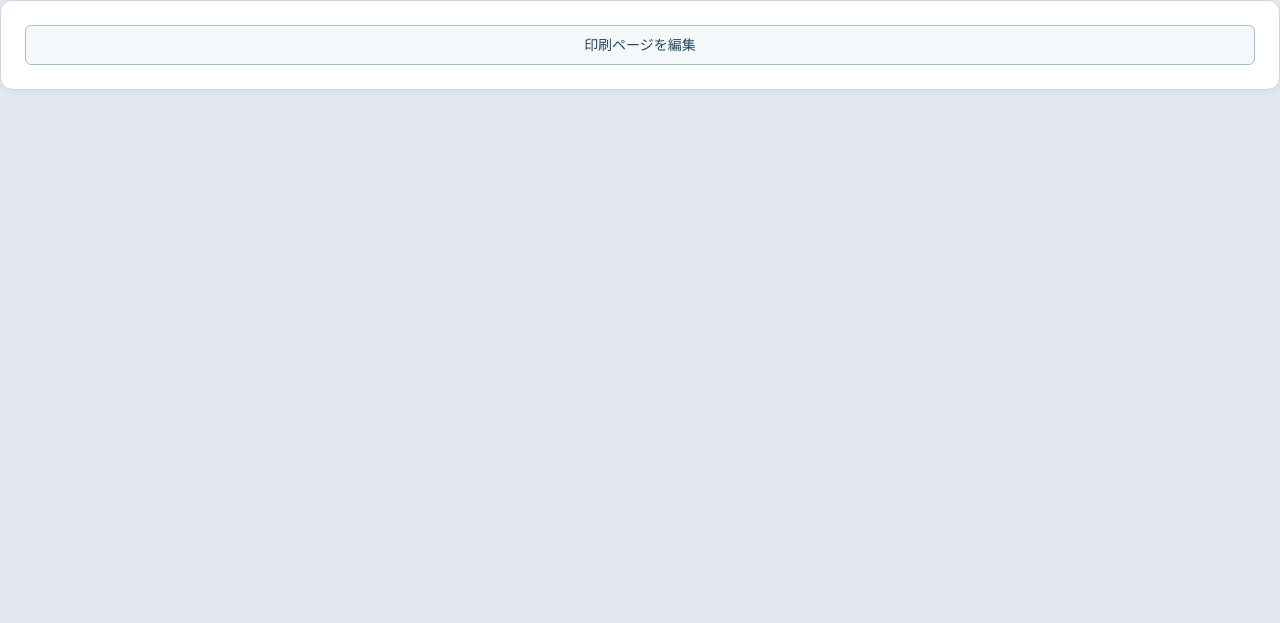
Test: 印刷ページ編集 › sends explicit heading bindings and keeps them after a save failure
Later steps or results of the test are not shown.
Click the button "印刷ページを編集".
click(640, 45)  # box left=25, top=25, right=1255, bottom=65
(page scrolled)
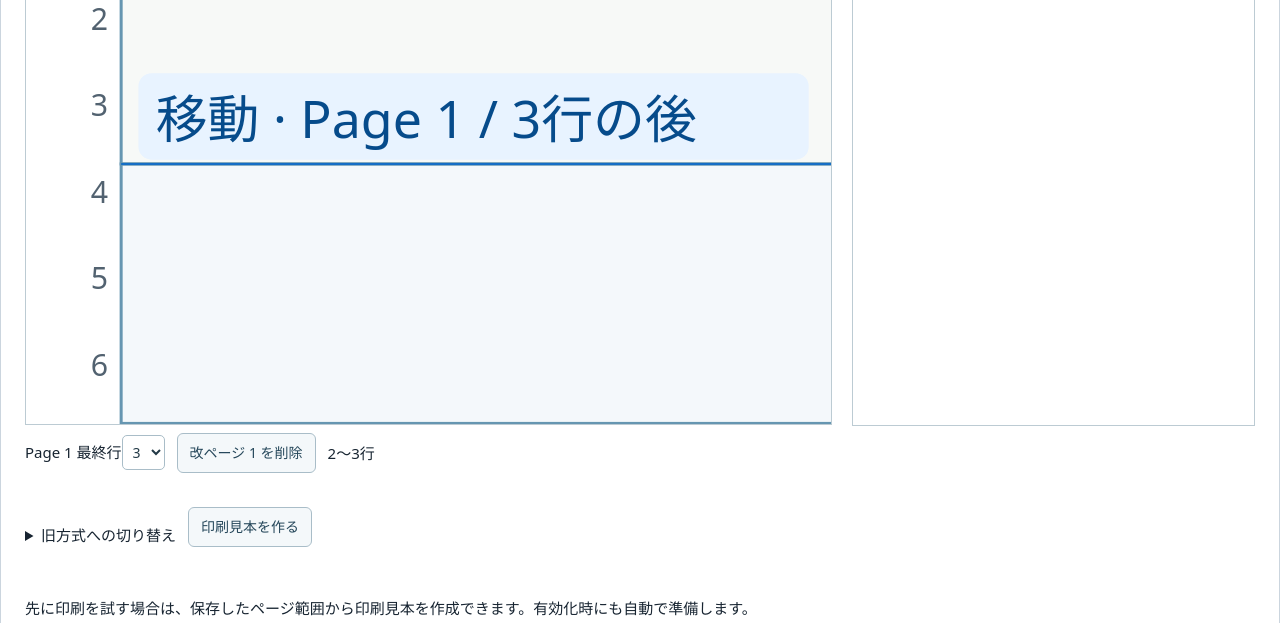
Select "2" in the dropdown labelled "Page 1 最終行" at (143, 453), box left=122, top=435, right=165, bottom=470
(page scrolled)
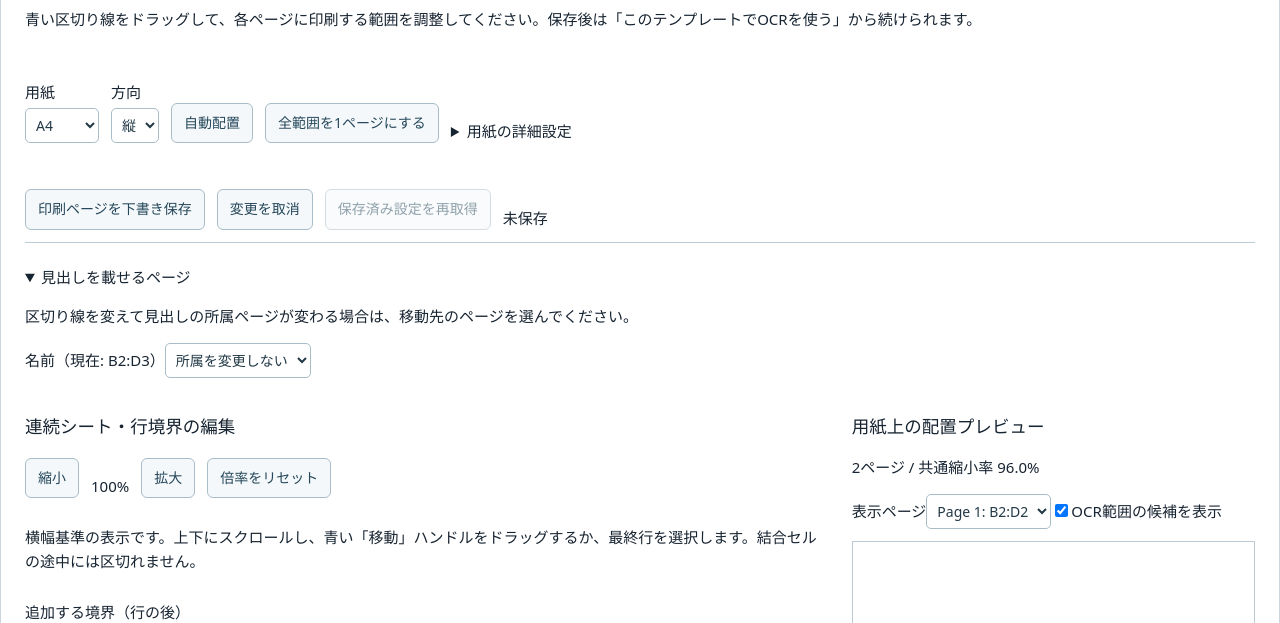
Result: the dropdown named "仮想見出し 名前 の移動先範囲" is enabled
Select "Page 1: B2:D2" in the dropdown named "仮想見出し 名前 の移動先範囲" at (238, 360), box left=165, top=343, right=311, bottom=378
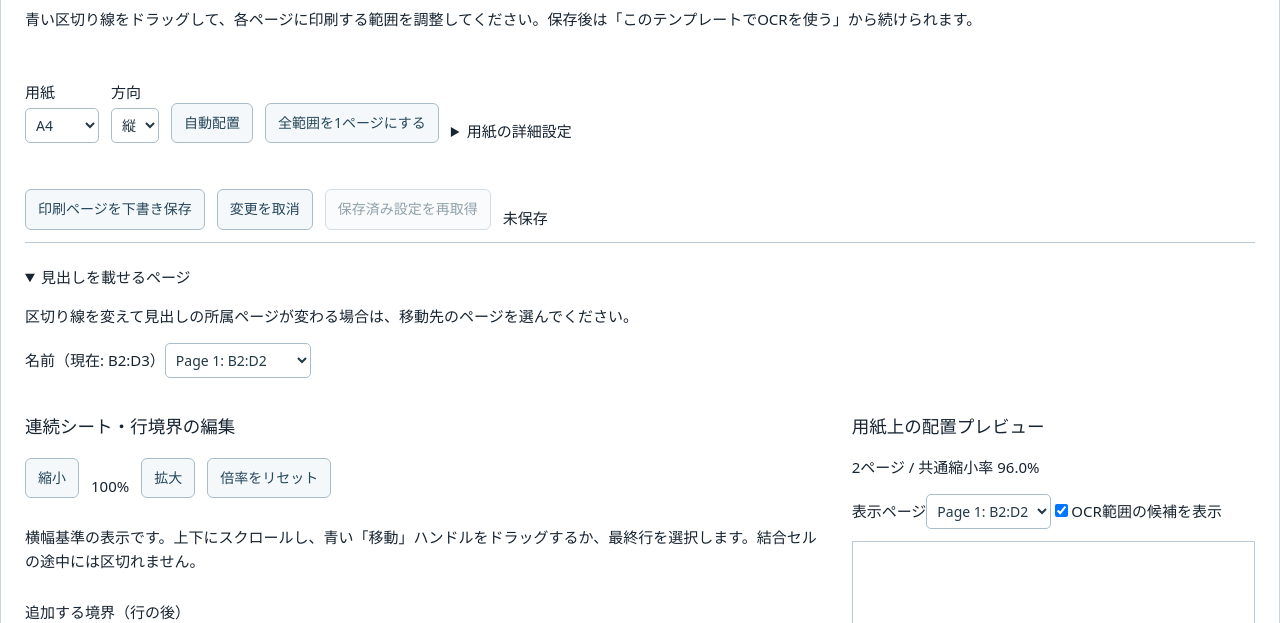
Result: the button "印刷ページを下書き保存" is enabled
Click the button "印刷ページを下書き保存".
click(115, 210)  # box left=25, top=189, right=205, bottom=230
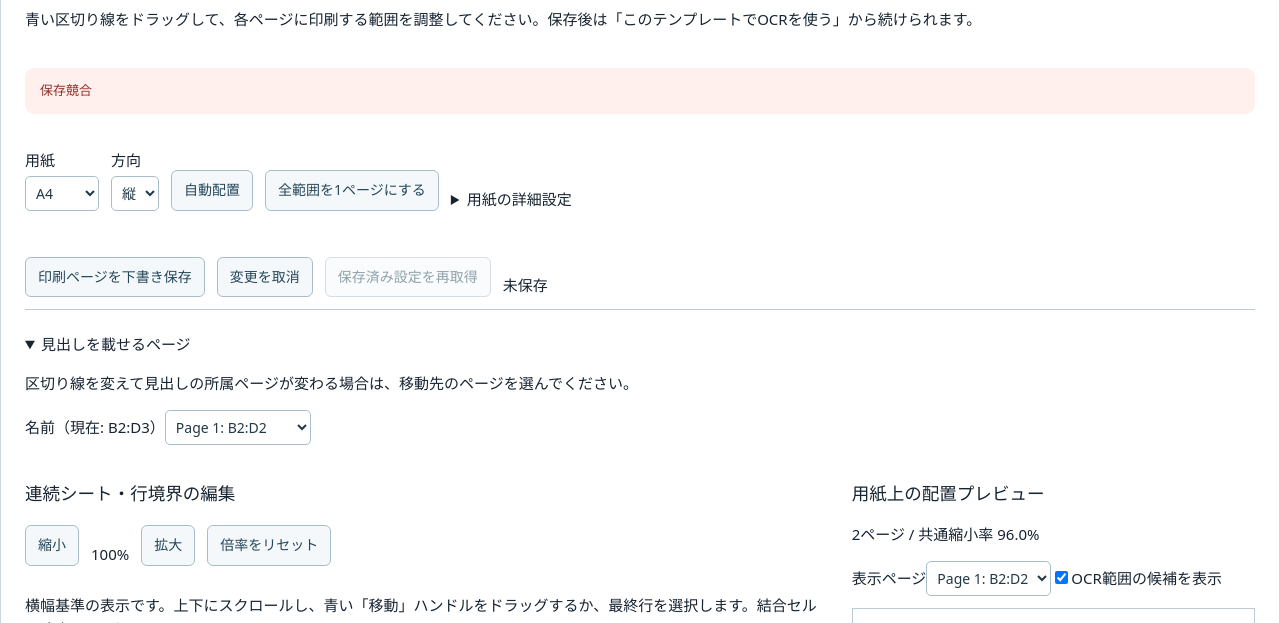
Result: the text "保存競合" is shown at left=25, top=68, right=1255, bottom=114
